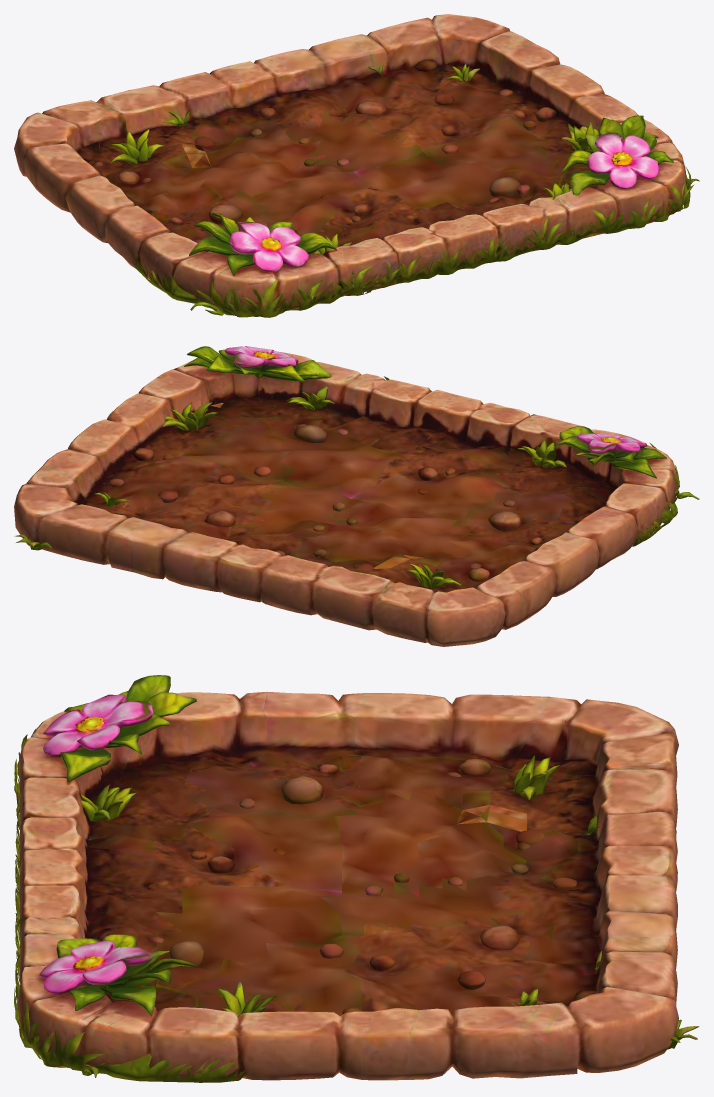
The model's file is stoneplot.glb.
3 views of the same model, one above another, from view 1: azimuth 30°, elevation 25°; view 2: azimuth 150°, elevation 25°; view 3: azimuth 270°, elevation 25° (orthographic). The views are drawn at different scales.
Parts seen in each view (by area): view 1: geometry_0; view 2: geometry_0; view 3: geometry_0.
Part boxes in pixels (x1,y1,x2,y2): geometry_0: (14,14,699,317); geometry_0: (14,346,699,646); geometry_0: (14,675,699,1082).
Bounding box in the file's own units: 0.9521 × 0.1147 × 0.7876.
1 material, 1 textured.
